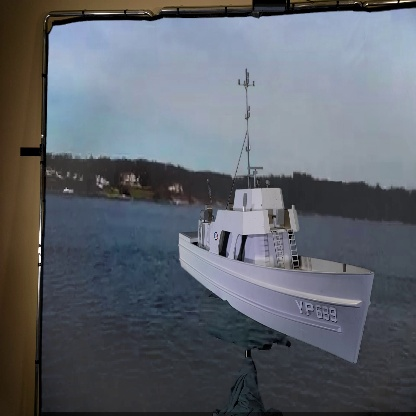YP689: (178, 67, 375, 363)
